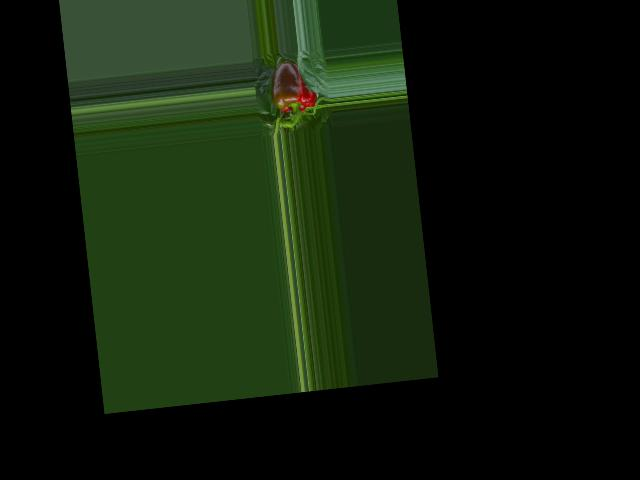bell_pepper: (262, 55, 320, 121)
